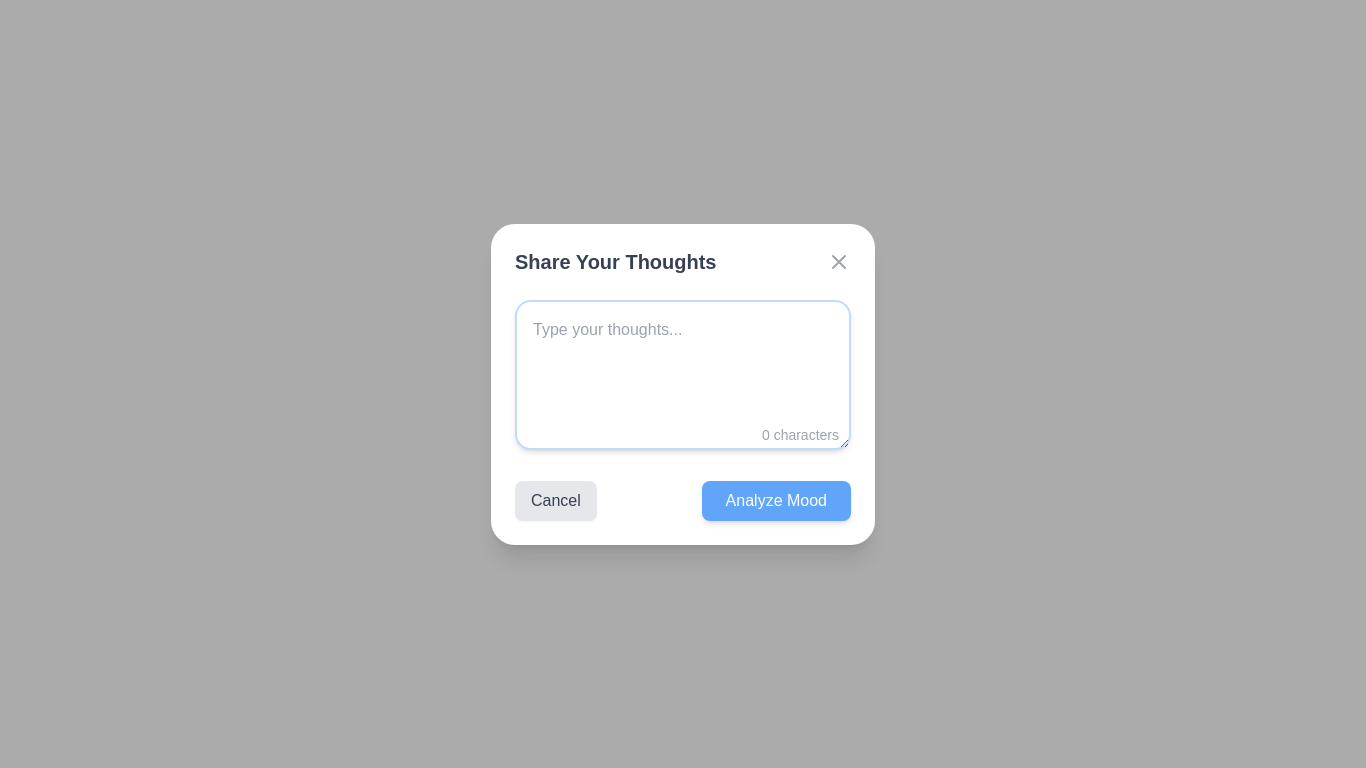
MoodInputModal Component › analyze button is disabled when text input is empty
Expected: the button "Analyze Mood" is disabled, [702,480,851,520]
Note: Add text to enable the button
Type "Some text" into the text box with placeholder "Type your thoughts...". click: (683,374)
box: [515,300,851,450]
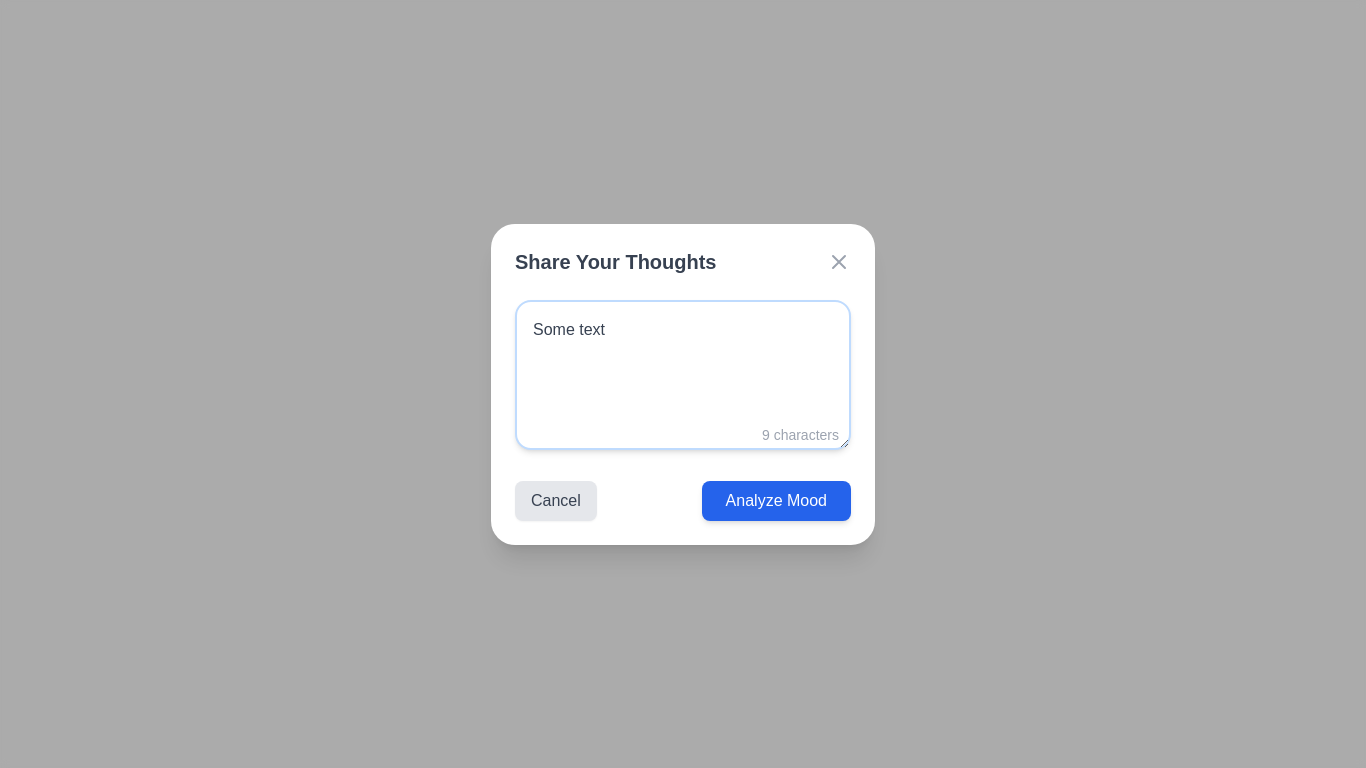
Expected: the button "Analyze Mood" is enabled, [702,480,851,520]
